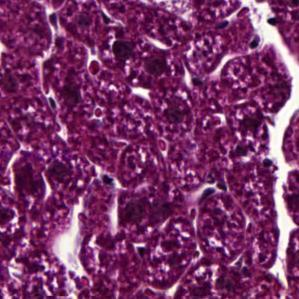inflammation: (3, 147, 54, 204), (226, 103, 272, 166), (142, 35, 176, 82)
